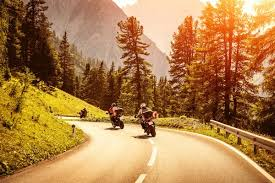motorcycle: (135, 108, 161, 139), (106, 108, 128, 130)
